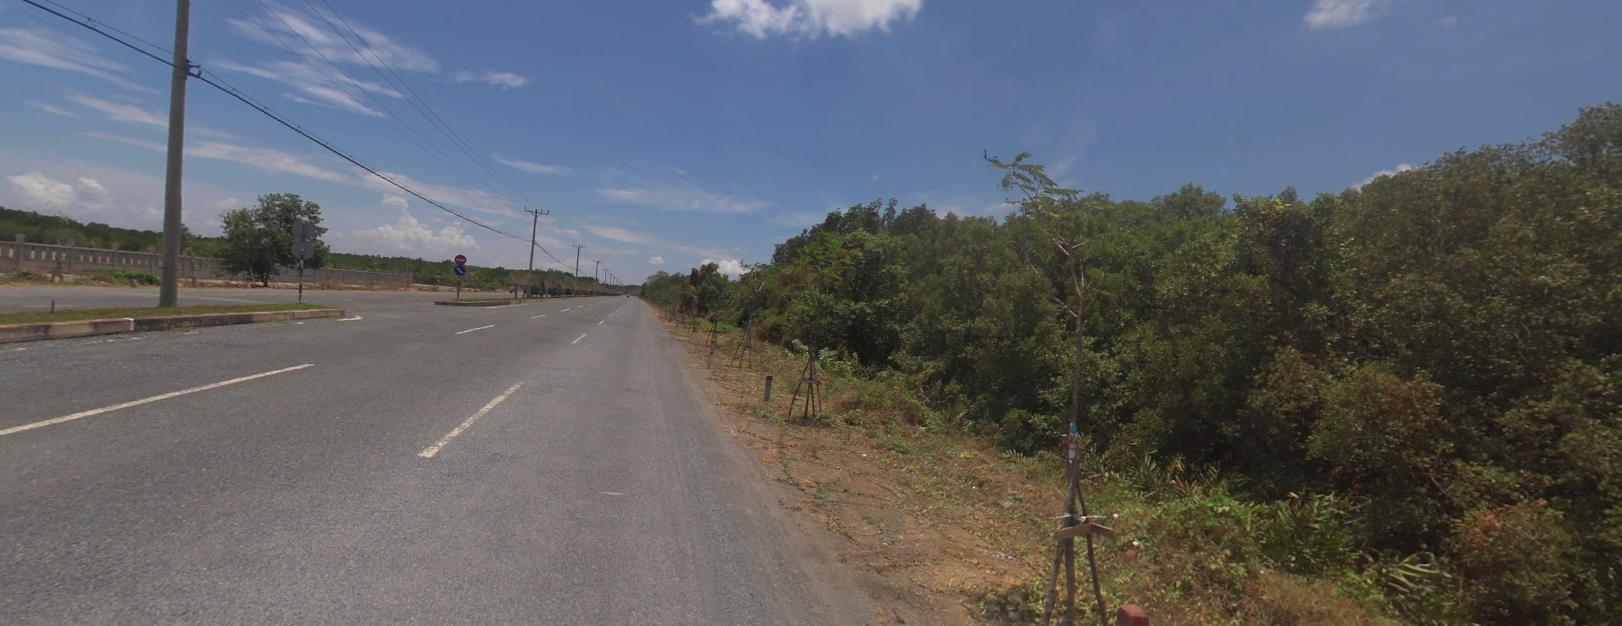Cam nguoc chieu: (455, 254, 465, 262)
Hieu lenh: (454, 264, 465, 274)
